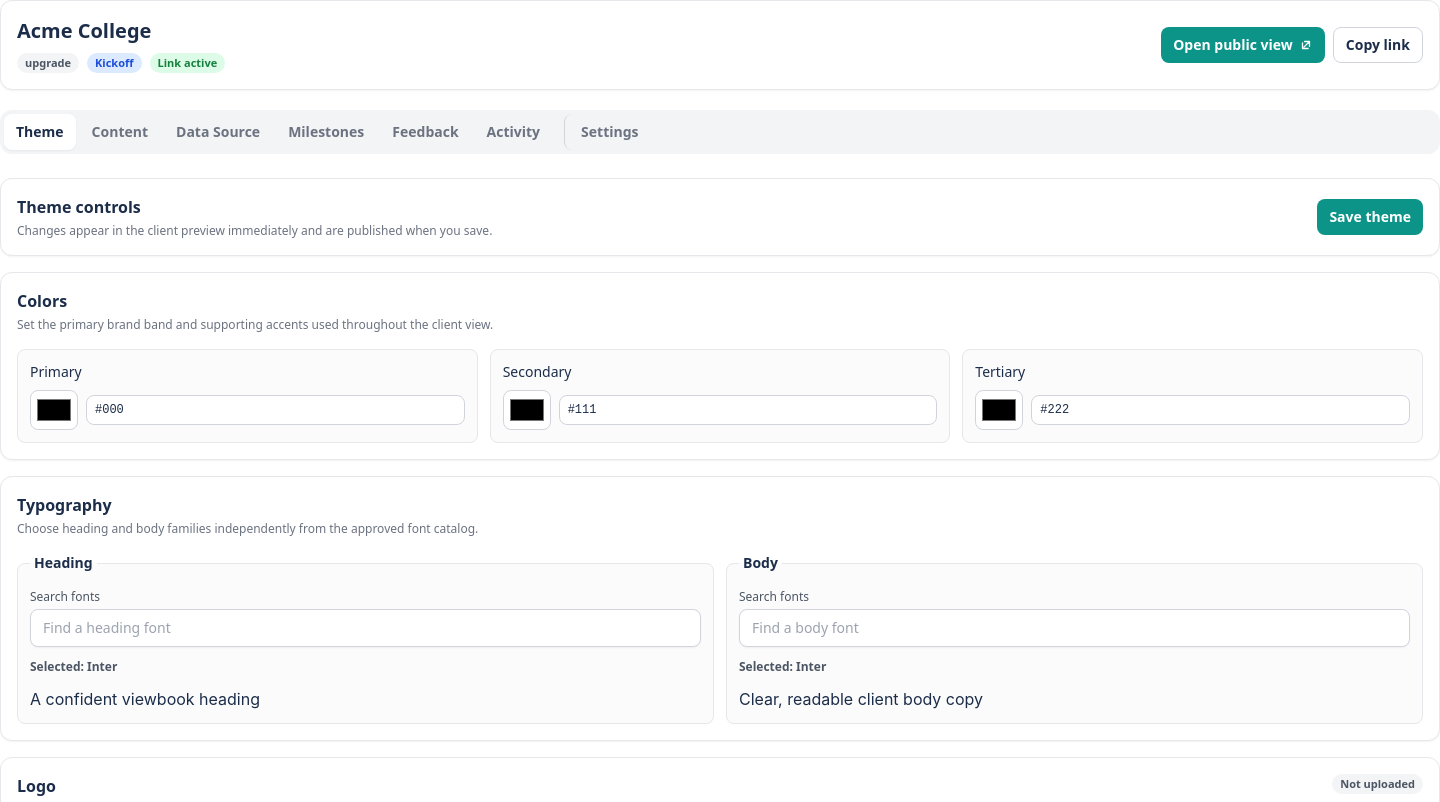
ViewbookEditor shell › copies the public URL from the secondary masthead action
The width and height of the screenshot is (1440, 802).
Click the button "Copy link": (1378, 45) [1333,27,1423,63]
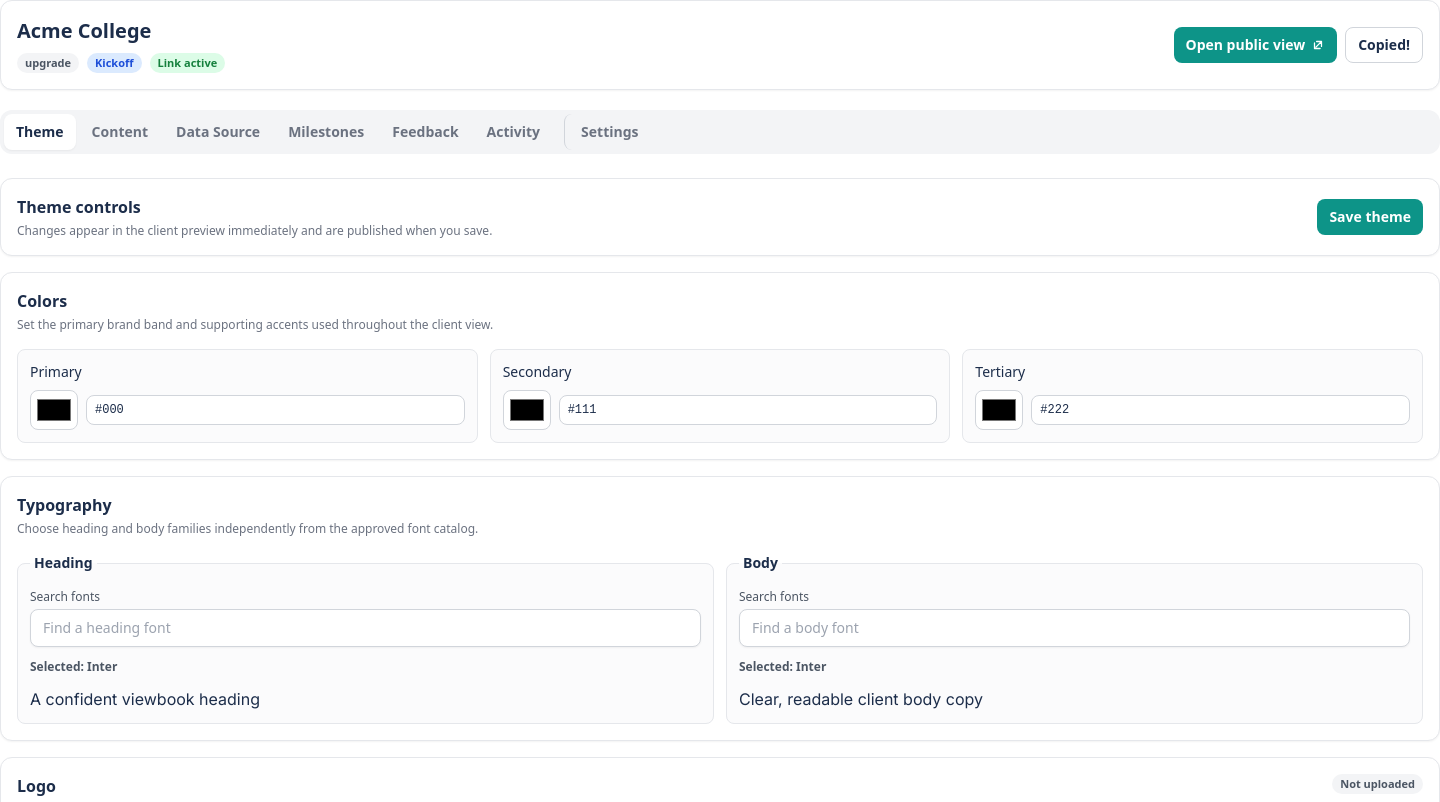
Result: the button "Copied!" is shown at [1345,27,1423,63]
